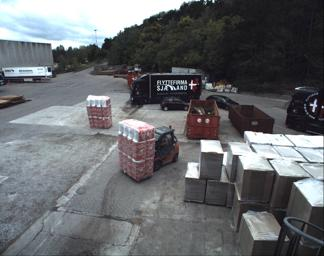rockwool_batts: (116, 120, 153, 179), (85, 94, 113, 129)
